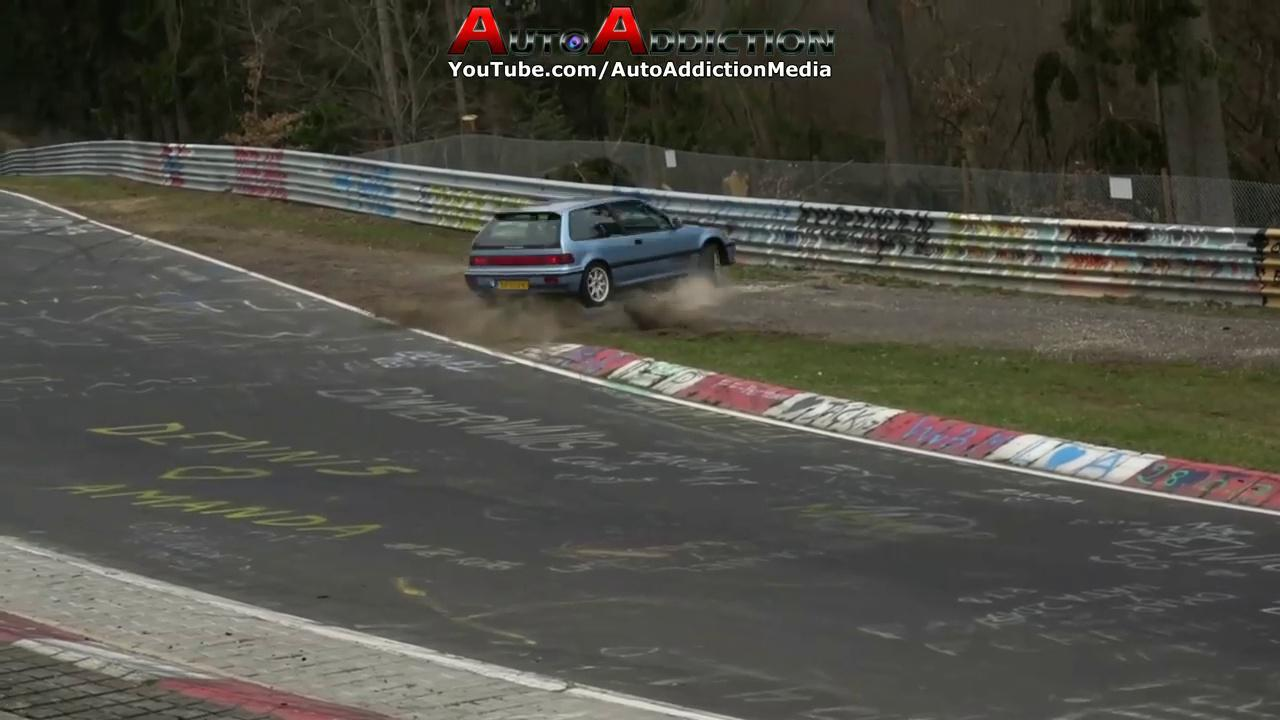car-accident: (384, 158, 828, 336)
